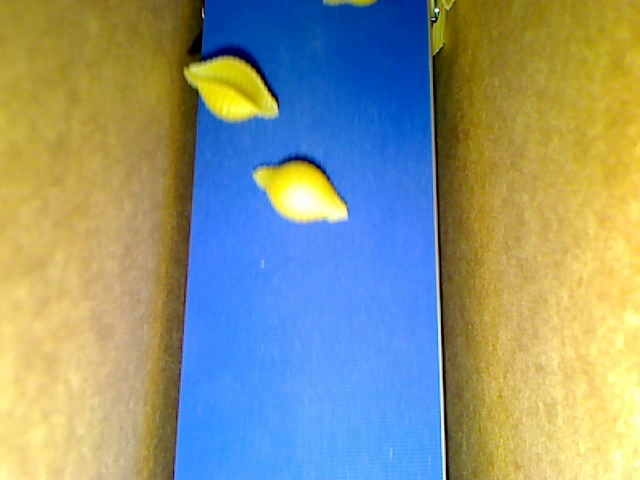penne: (430, 1, 446, 56), (441, 1, 454, 15)
shell: (183, 55, 283, 121), (253, 160, 348, 225)
